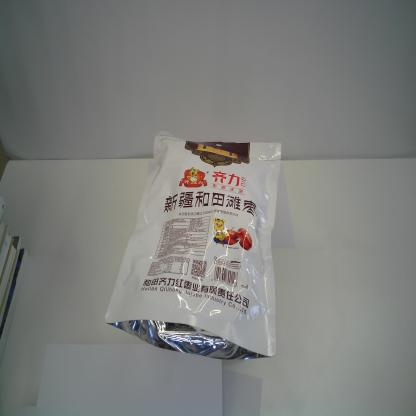Dried Food: (104, 127, 284, 366)
